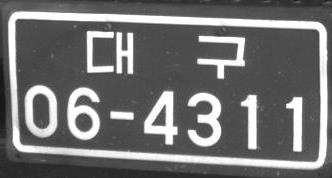0: (23, 83, 58, 137)
1: (280, 94, 313, 153), (234, 93, 266, 150)
3: (186, 89, 222, 147)
4: (143, 90, 178, 144)
6: (66, 84, 101, 140)
대구_D: (86, 29, 246, 79)
